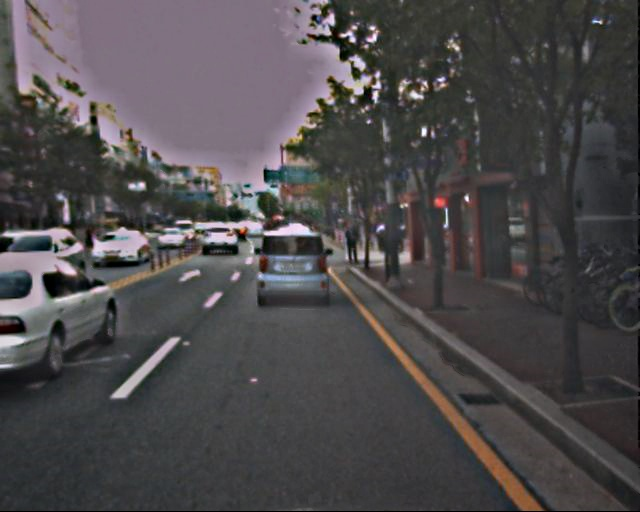person: (341, 219, 362, 269)
